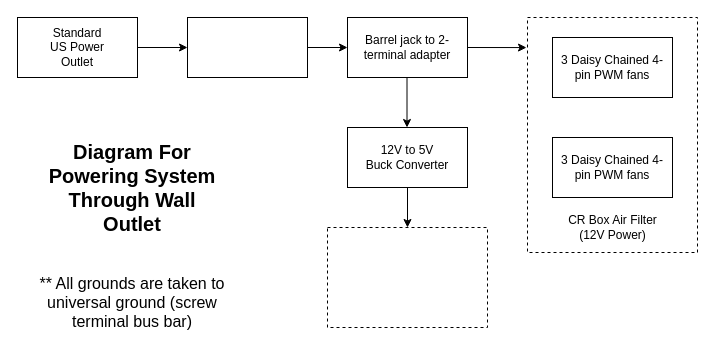
Some shapes in this 715 by 349 pixel diagram are drawn without their labels. Here are the shapes that lost their labels. From the top down, the box of each, then its label:
(186, 16, 308, 78): AC to 12V DC wall adapter
(326, 226, 488, 328): Breadboard/ESP32 Power Rails
